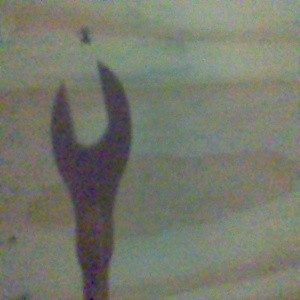spanner: (49, 60, 133, 300)
